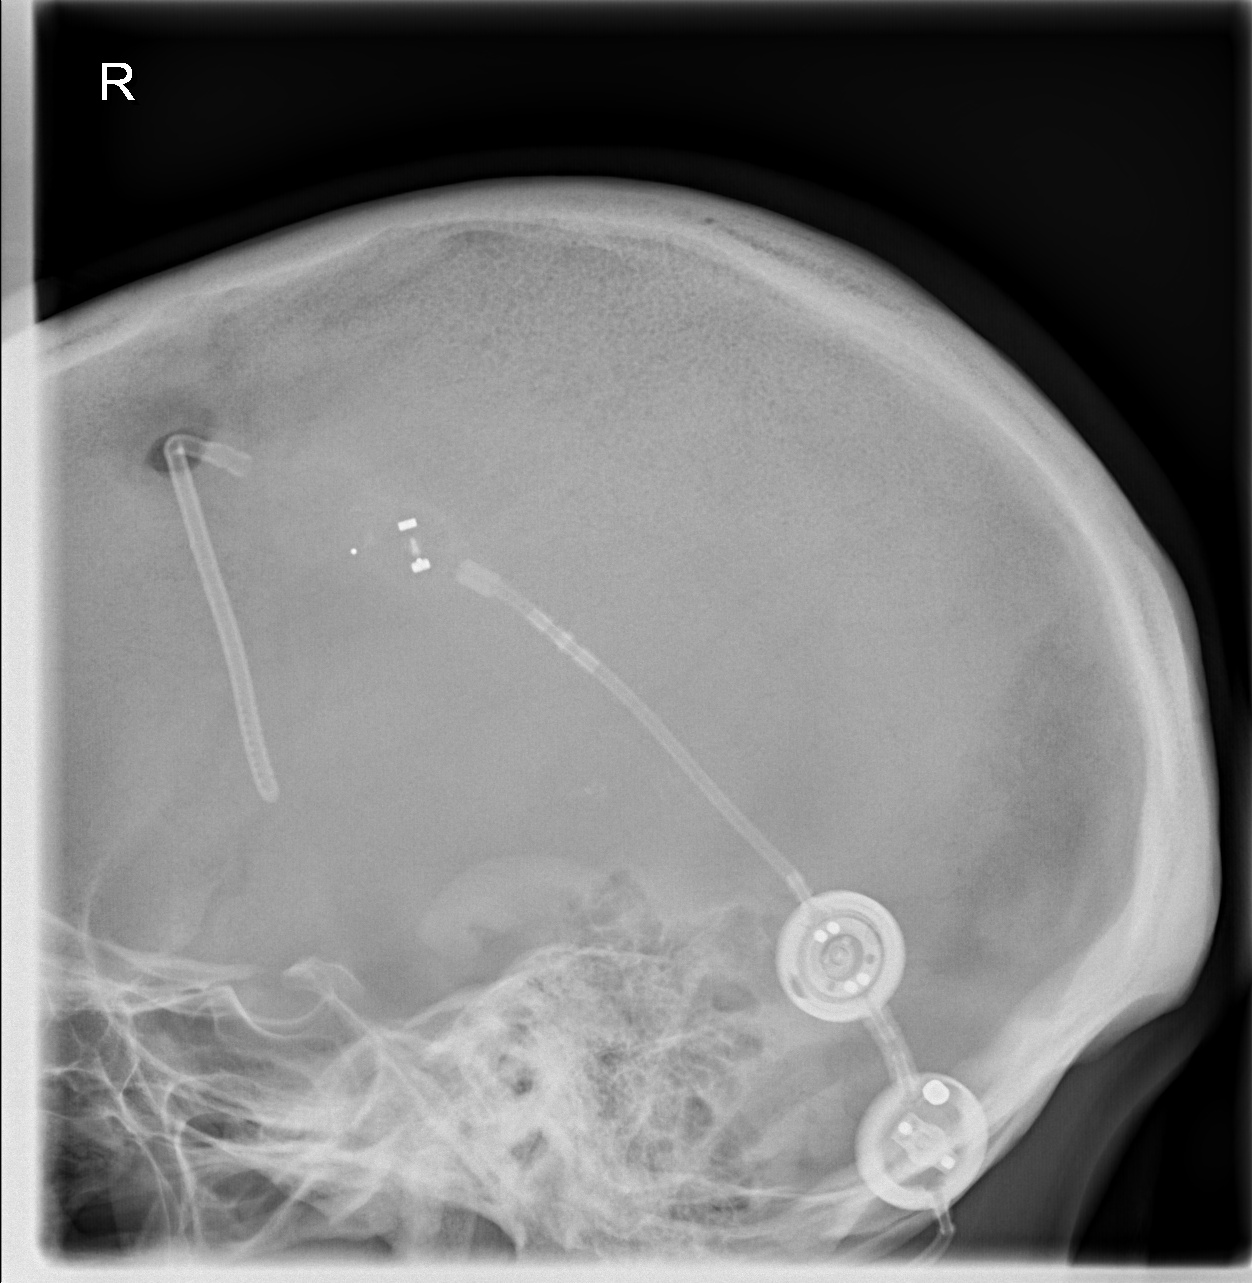Codman Certas: (330, 490, 469, 617)
proGAV 2.0: (770, 887, 911, 1028)
proSA: (850, 1066, 996, 1222)
